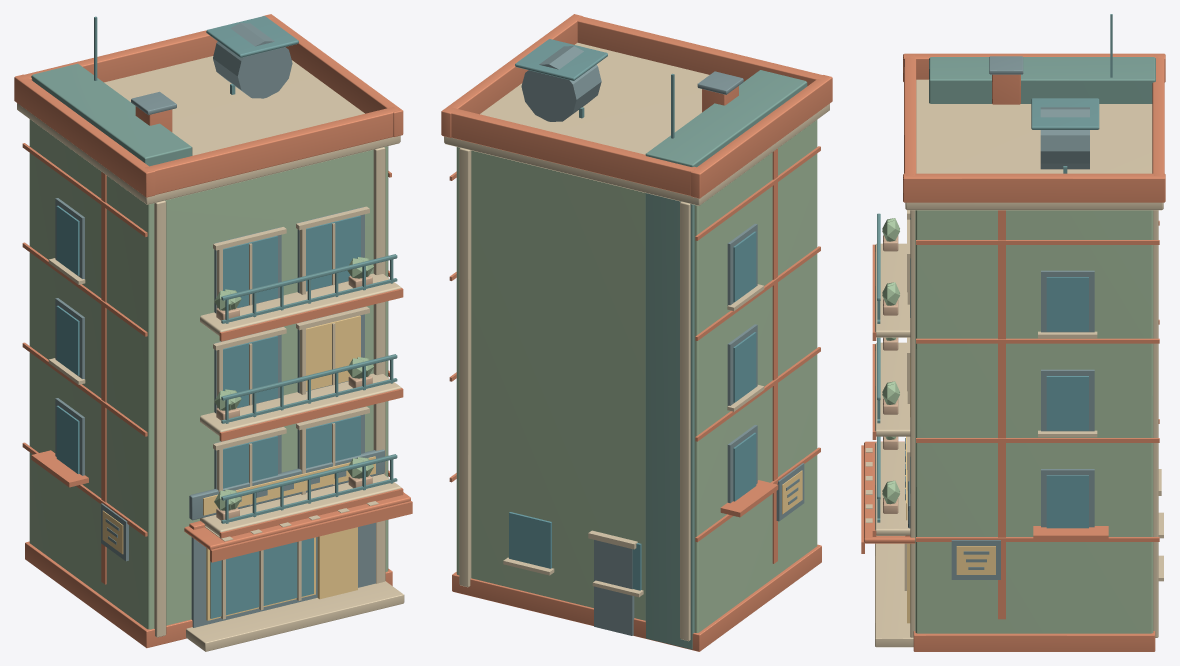
Rendered from roadside-midrise.glb.
The picture shows the model from 3 angles, left to right: view 1: azimuth 30°, elevation 25°; view 2: azimuth 150°, elevation 25°; view 3: azimuth 270°, elevation 25°; orthographic projection.
Parts seen in each view (by area): view 1: __art_export_tmp__homecoming_midrise_root_midrise sage plast, __art_export_tmp__homecoming_midrise_root_midrise ivory colu, __art_export_tmp__homecoming_midrise_root_midrise warm coral, __art_export_tmp__homecoming_midrise_root_midrise rain glass, __art_export_tmp__homecoming_midrise_root_midrise deep slate, __art_export_tmp__homecoming_midrise_root_midrise oxidized r, __art_export_tmp__homecoming_midrise_root_midrise shop amber, __art_export_tmp__homecoming_midrise_root_midrise shaded pla, __art_export_tmp__homecoming_midrise_root_midrise balcony le, __art_export_tmp__homecoming_midrise_root_midrise clay pots; view 2: __art_export_tmp__homecoming_midrise_root_midrise sage plast, __art_export_tmp__homecoming_midrise_root_midrise warm coral, __art_export_tmp__homecoming_midrise_root_midrise ivory colu, __art_export_tmp__homecoming_midrise_root_midrise shaded pla, __art_export_tmp__homecoming_midrise_root_midrise deep slate, __art_export_tmp__homecoming_midrise_root_midrise rain glass, __art_export_tmp__homecoming_midrise_root_midrise oxidized r; view 3: __art_export_tmp__homecoming_midrise_root_midrise sage plast, __art_export_tmp__homecoming_midrise_root_midrise ivory colu, __art_export_tmp__homecoming_midrise_root_midrise warm coral, __art_export_tmp__homecoming_midrise_root_midrise shaded pla, __art_export_tmp__homecoming_midrise_root_midrise deep slate, __art_export_tmp__homecoming_midrise_root_midrise rain glass, __art_export_tmp__homecoming_midrise_root_midrise oxidized r, __art_export_tmp__homecoming_midrise_root_midrise shop amber, __art_export_tmp__homecoming_midrise_root_midrise balcony le, __art_export_tmp__homecoming_midrise_root_midrise clay pots.
Boxes of the visible parts, x1,y1,x2,y2 form: __art_export_tmp__homecoming_midrise_root_midrise sage plast: (29,119,388,629); __art_export_tmp__homecoming_midrise_root_midrise ivory colu: (17,56,404,651); __art_export_tmp__homecoming_midrise_root_midrise warm coral: (14,14,412,648); __art_export_tmp__homecoming_midrise_root_midrise rain glass: (56,205,360,618); __art_export_tmp__homecoming_midrise_root_midrise deep slate: (55,23,384,627); __art_export_tmp__homecoming_midrise_root_midrise oxidized r: (94,16,397,523); __art_export_tmp__homecoming_midrise_root_midrise shop amber: (102,315,375,620); __art_export_tmp__homecoming_midrise_root_midrise shaded pla: (31,63,192,166); __art_export_tmp__homecoming_midrise_root_midrise balcony le: (214,257,373,510); __art_export_tmp__homecoming_midrise_root_midrise clay pots: (216,275,372,520); __art_export_tmp__homecoming_midrise_root_midrise sage plast: (456,120,817,632); __art_export_tmp__homecoming_midrise_root_midrise warm coral: (441,14,832,651); __art_export_tmp__homecoming_midrise_root_midrise ivory colu: (444,42,829,641); __art_export_tmp__homecoming_midrise_root_midrise shaded pla: (645,70,807,649); __art_export_tmp__homecoming_midrise_root_midrise deep slate: (521,46,804,635); __art_export_tmp__homecoming_midrise_root_midrise rain glass: (509,231,756,590); __art_export_tmp__homecoming_midrise_root_midrise oxidized r: (515,39,674,138); __art_export_tmp__homecoming_midrise_root_midrise sage plast: (915,210,1153,633); __art_export_tmp__homecoming_midrise_root_midrise ivory colu: (865,79,1163,647); __art_export_tmp__homecoming_midrise_root_midrise warm coral: (861,53,1165,651); __art_export_tmp__homecoming_midrise_root_midrise shaded pla: (929,57,1155,103); __art_export_tmp__homecoming_midrise_root_midrise deep slate: (905,56,1094,579); __art_export_tmp__homecoming_midrise_root_midrise rain glass: (910,218,1088,528); __art_export_tmp__homecoming_midrise_root_midrise oxidized r: (877,14,1112,522); __art_export_tmp__homecoming_midrise_root_midrise shop amber: (906,357,995,623); __art_export_tmp__homecoming_midrise_root_midrise balcony le: (882,218,899,504); __art_export_tmp__homecoming_midrise_root_midrise clay pots: (883,235,898,513).
Size of the model in its own units: 6.74 by 12.57 by 6.4.
